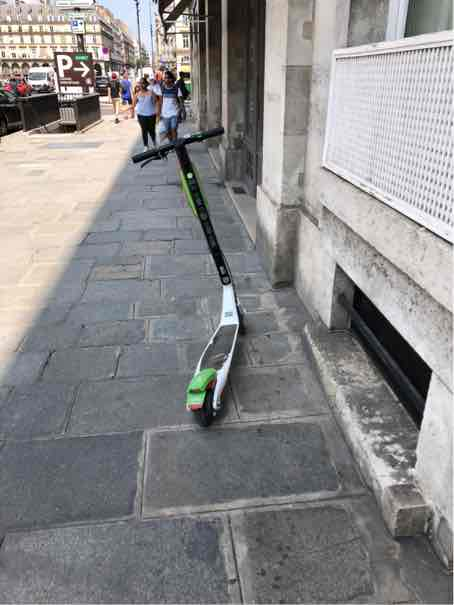scooter: (127, 116, 261, 440)
